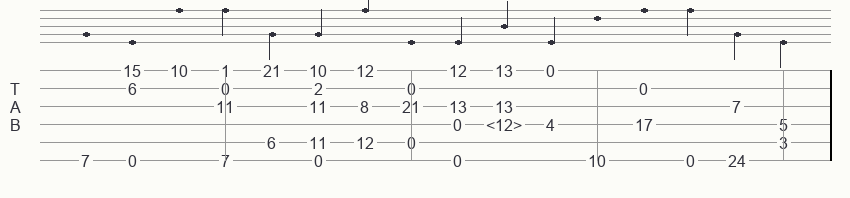0: (128, 152, 141, 168), (221, 80, 234, 96), (314, 152, 327, 168), (407, 80, 420, 96), (407, 134, 420, 150), (453, 152, 466, 168), (453, 116, 466, 132), (546, 62, 559, 78), (639, 80, 652, 96), (686, 152, 699, 168)
1: (221, 62, 234, 78)
10: (170, 62, 192, 78), (309, 62, 331, 78), (588, 152, 610, 168)
11: (216, 98, 238, 114), (309, 98, 331, 114), (309, 134, 331, 150)
12: (356, 134, 378, 150), (356, 62, 378, 78), (449, 62, 471, 78)
13: (449, 98, 471, 114), (495, 98, 517, 114), (495, 62, 517, 78)
15: (123, 62, 145, 78)
17: (635, 116, 657, 132)
2: (314, 80, 327, 96)
21: (263, 62, 285, 78), (402, 98, 424, 114)
24: (728, 152, 750, 168)
3: (779, 134, 792, 150)
4: (546, 116, 559, 132)
5: (779, 116, 792, 132)
6: (128, 80, 141, 96), (267, 134, 280, 150)
7: (81, 152, 94, 168), (221, 152, 234, 168), (732, 98, 745, 114)
8: (360, 98, 373, 114)
harmonic: (486, 116, 526, 132)
